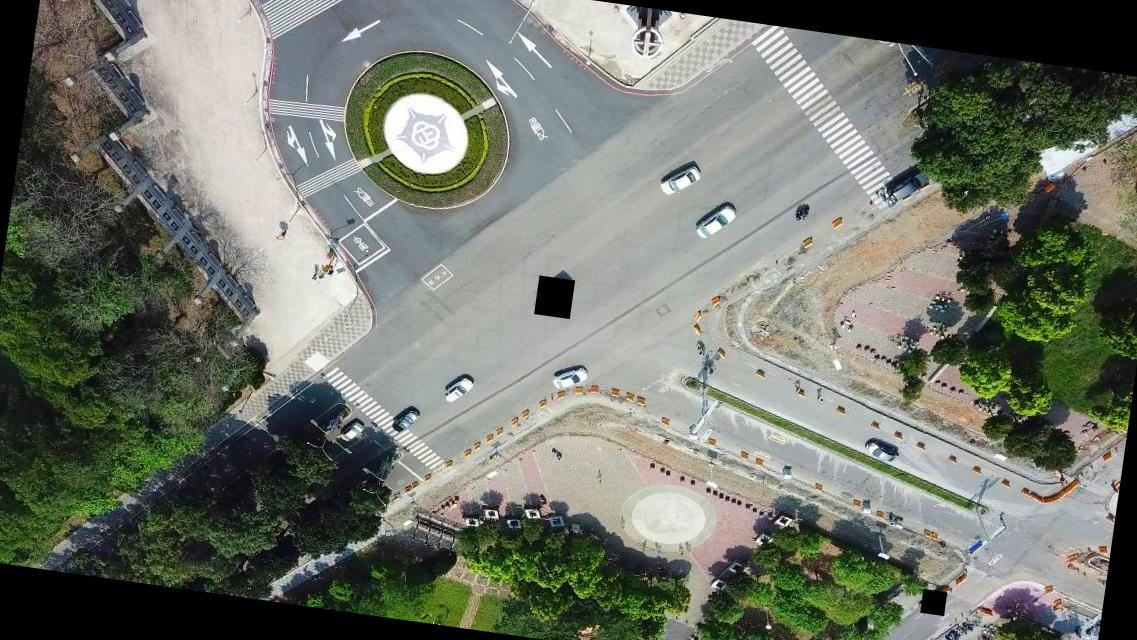vehicle: (880, 164, 932, 210), (694, 201, 738, 244), (658, 161, 704, 201), (552, 362, 590, 394), (862, 438, 901, 464), (444, 374, 474, 404), (391, 405, 420, 435), (339, 419, 366, 444)
